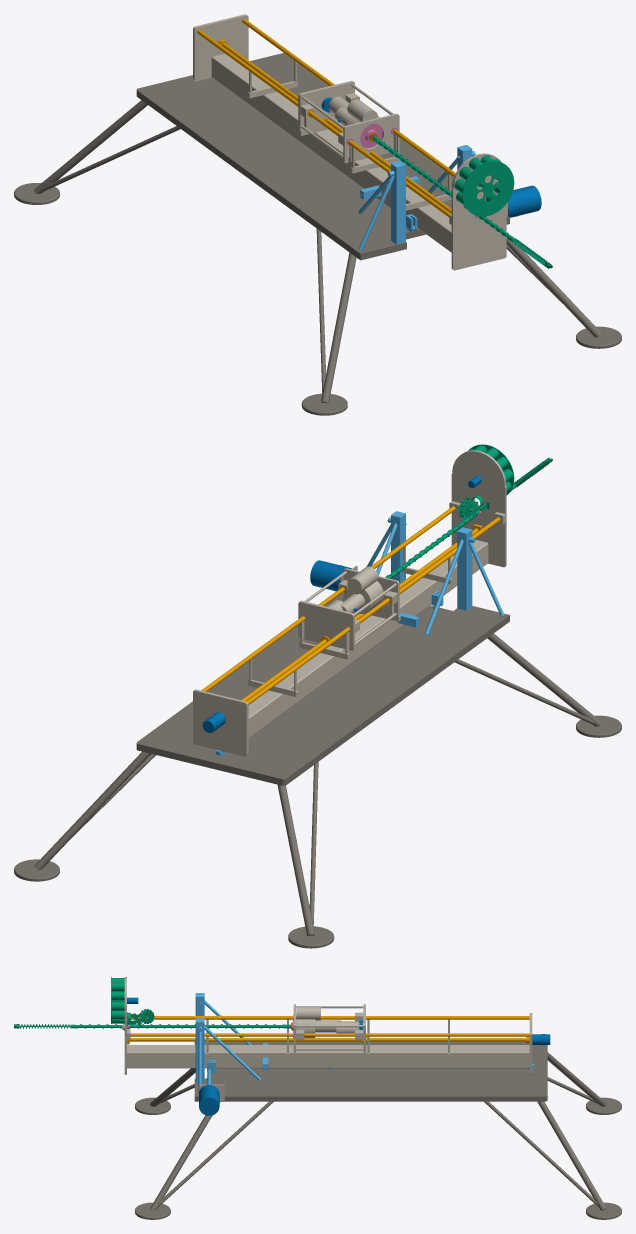
Rendered from mast_stowed.glb.
3 renders of one model, top to bottom at view 1: azimuth 30°, elevation 25°; view 2: azimuth 150°, elevation 25°; view 3: azimuth 270°, elevation 25°, orthographic. The views are drawn at different scales.
Parts seen in each view (by area): view 1: Deck_Face_Sheet, Mast_Spine_80x80x3, Mast_Foot_Plate, Lander_Deck_Panel, Mast_Crosshead, Carousel_Turntable, Carriage_Base_Plate, Guide_Rail_L, Leg_1_Main, Latch_Post_L, Leg_3_Main, Carriage_Top_Yoke (+10 smaller); view 2: Deck_Face_Sheet, Mast_Spine_80x80x3, Mast_Foot_Plate, Lander_Deck_Panel, Mast_Crosshead, Carriage_Top_Yoke, Head_Housing_Ti, Guide_Rail_L, Leg_4_Main, Leg_3_Main, Guide_Rail_R, Latch_Post_L (+9 smaller); view 3: Deck_Face_Sheet, Mast_Spine_80x80x3, Lander_Deck_Panel, Guide_Rail_R, Leadscrew_Tr16x4, Guide_Rail_L, Head_Housing_Ti, Leg_4_Main, Leg_2_Main, Leg_2_Brace, Leg_4_Brace, Deploy_Actuator_BLDC_StrainWave (+8 smaller).
Part boxes in pixels (left/top/right/bottom): Deck_Face_Sheet: left=137, top=53, right=453, bottom=245; Mast_Spine_80x80x3: left=211, top=53, right=489, bottom=266; Mast_Foot_Plate: left=451, top=153, right=506, bottom=270; Lander_Deck_Panel: left=136, top=53, right=509, bottom=260; Mast_Crosshead: left=193, top=14, right=248, bottom=81; Carousel_Turntable: left=462, top=161, right=514, bottom=216; Carriage_Base_Plate: left=343, top=113, right=399, bottom=163; Guide_Rail_L: left=197, top=29, right=451, bottom=217; Leg_1_Main: left=321, top=252, right=356, bottom=403; Latch_Post_L: left=391, top=161, right=405, bottom=244; Leg_3_Main: left=34, top=100, right=147, bottom=193; Carriage_Top_Yoke: left=298, top=80, right=354, bottom=130; Deck_Face_Sheet: left=137, top=593, right=497, bottom=778; Mast_Spine_80x80x3: left=210, top=540, right=488, bottom=752; Mast_Foot_Plate: left=451, top=450, right=506, bottom=567; Lander_Deck_Panel: left=136, top=605, right=509, bottom=785; Mast_Crosshead: left=193, top=689, right=248, bottom=756; Carriage_Top_Yoke: left=298, top=600, right=354, bottom=650; Head_Housing_Ti: left=327, top=566, right=383, bottom=613; Guide_Rail_L: left=246, top=517, right=500, bottom=704; Leg_4_Main: left=34, top=751, right=150, bottom=870; Leg_3_Main: left=277, top=785, right=314, bottom=935; Guide_Rail_R: left=201, top=506, right=455, bottom=691; Latch_Post_L: left=457, top=527, right=472, bottom=610; Deck_Face_Sheet: left=211, top=1041, right=546, bottom=1096; Mast_Spine_80x80x3: left=127, top=1045, right=529, bottom=1068; Lander_Deck_Panel: left=194, top=1041, right=547, bottom=1101; Guide_Rail_R: left=130, top=1033, right=529, bottom=1036; Leadscrew_Tr16x4: left=129, top=1038, right=525, bottom=1041; Guide_Rail_L: left=131, top=1016, right=529, bottom=1019; Head_Housing_Ti: left=296, top=1006, right=358, bottom=1038; Leg_4_Main: left=537, top=1101, right=606, bottom=1210; Leg_2_Main: left=150, top=1102, right=220, bottom=1210; Leg_2_Brace: left=153, top=1101, right=273, bottom=1210; Leg_4_Brace: left=484, top=1101, right=603, bottom=1210; Deploy_Actuator_BLDC_StrainWave: left=199, top=1084, right=219, bottom=1115.
Bounding box in the file's own units: 1.26 × 0.8838 × 2.7.
